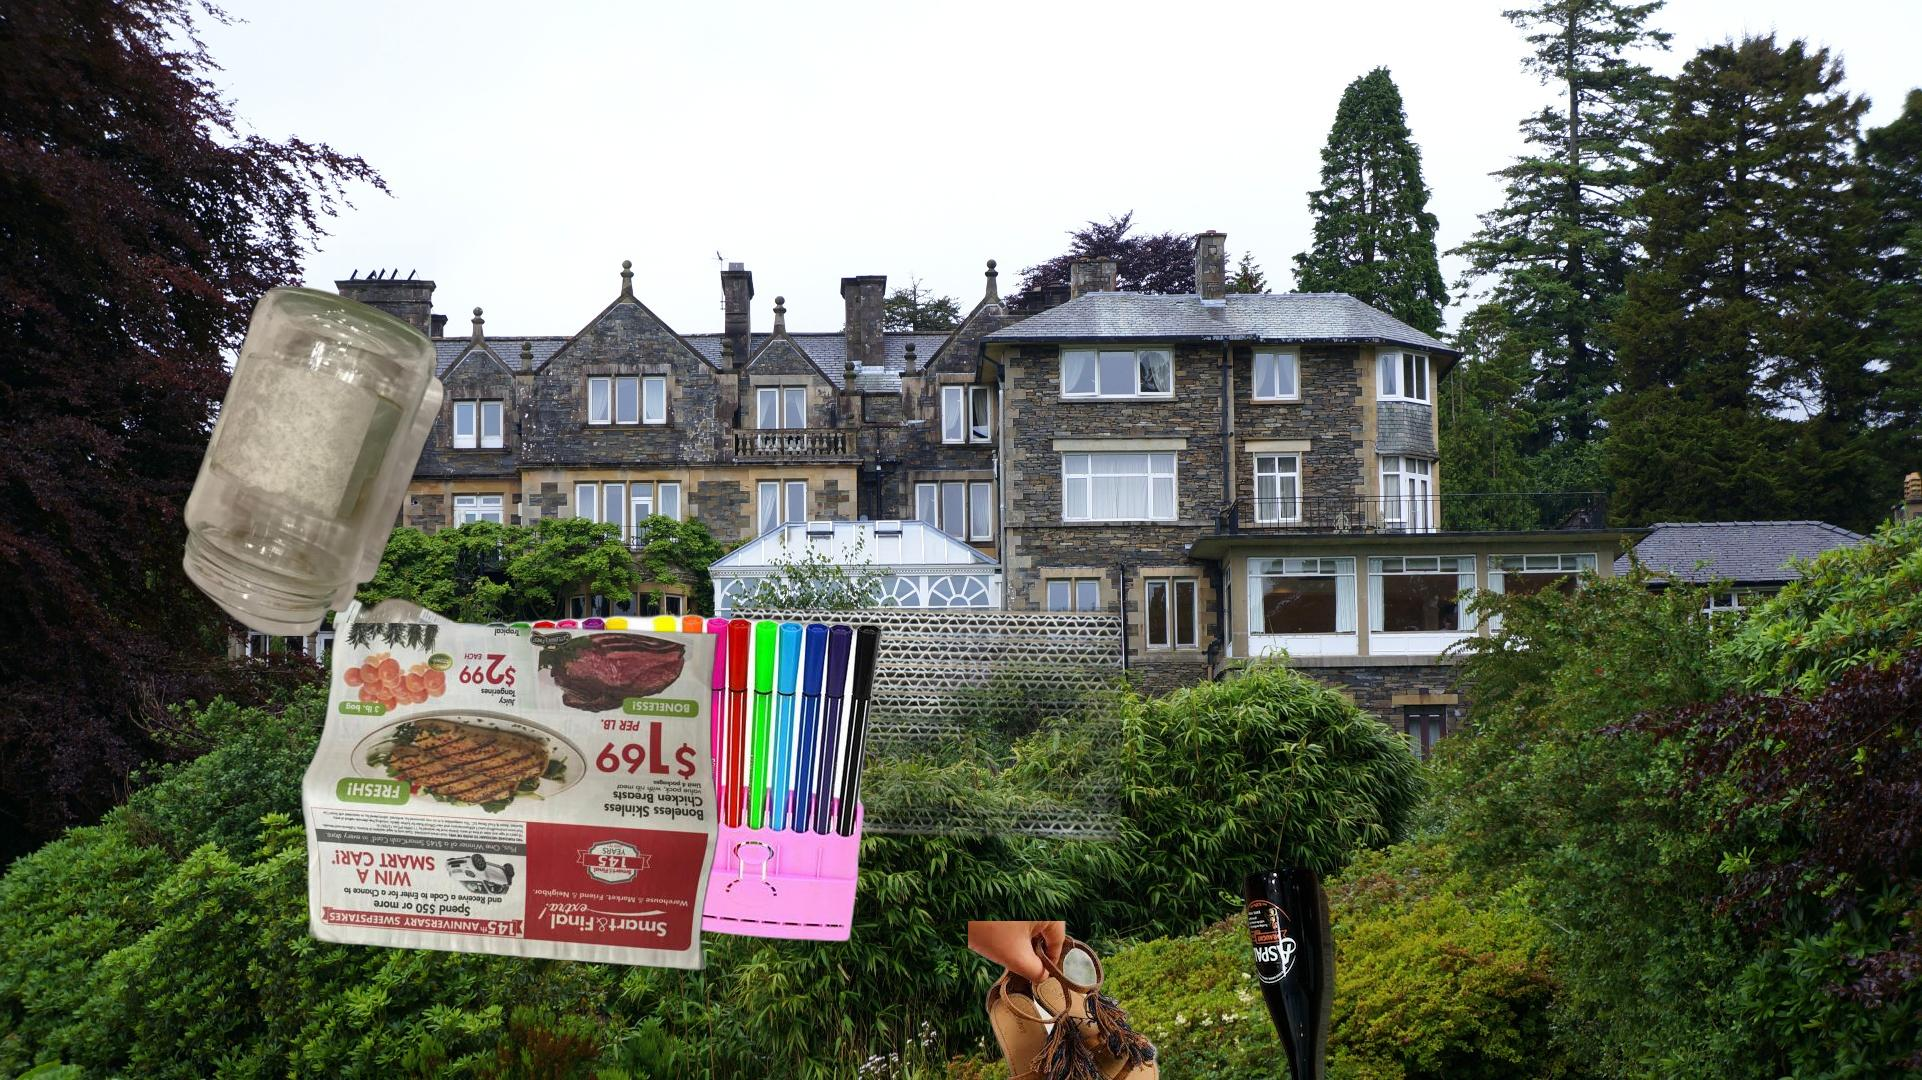glass: (178, 283, 449, 636), (1238, 861, 1340, 1080)
paper: (293, 623, 723, 974)
penholder: (405, 609, 887, 947)
plastic-bottles: (327, 589, 572, 741)
shoes: (968, 922, 1163, 1080)
trashbox-cardboard: (731, 607, 1121, 887)
